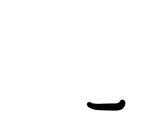minus: (87, 99, 125, 111)
